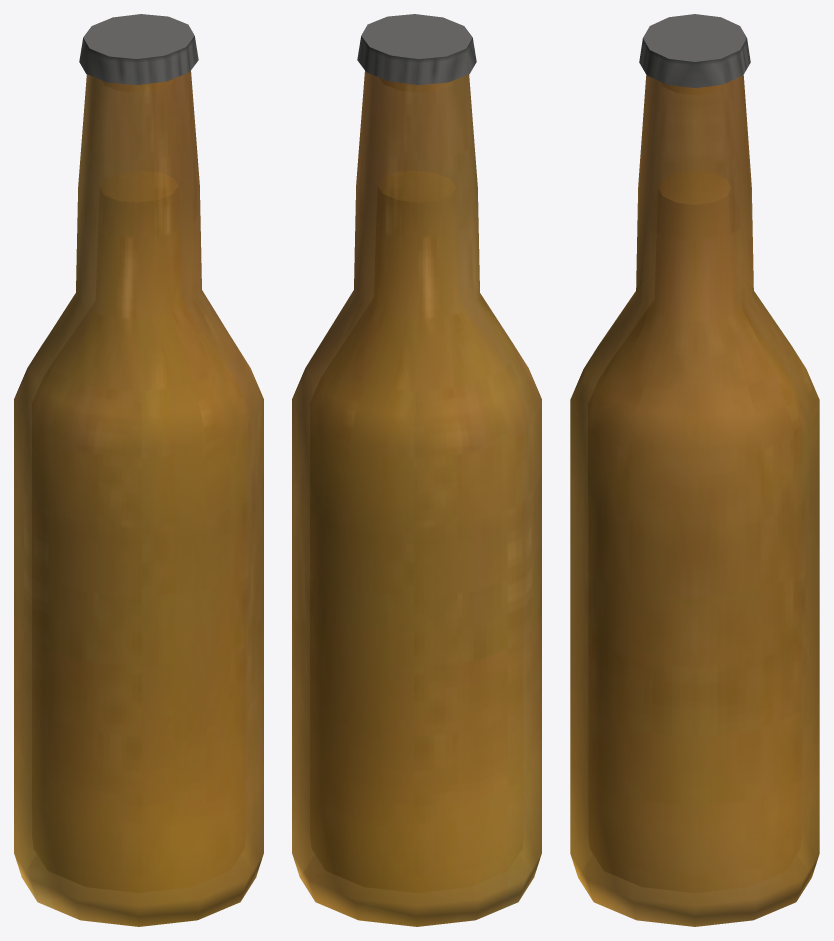
The model's file is drink01b.fbx.
The picture shows the model from 3 angles, left to right: view 1: azimuth 30°, elevation 25°; view 2: azimuth 150°, elevation 25°; view 3: azimuth 270°, elevation 25°; orthographic projection.
Parts seen in each view (by area): view 1: drink01b; view 2: drink01b; view 3: drink01b.
Part boxes in pixels (x1,y1,x2,y2): drink01b: (14, 14, 263, 926); drink01b: (292, 14, 541, 926); drink01b: (570, 14, 819, 926).
Size of the model in its own units: 7.1 by 26.37 by 7.1.
